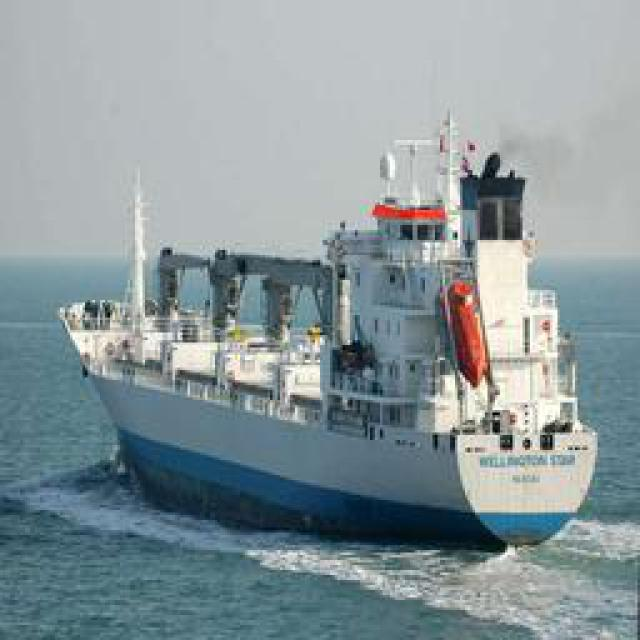Ship: (52, 95, 605, 555)
